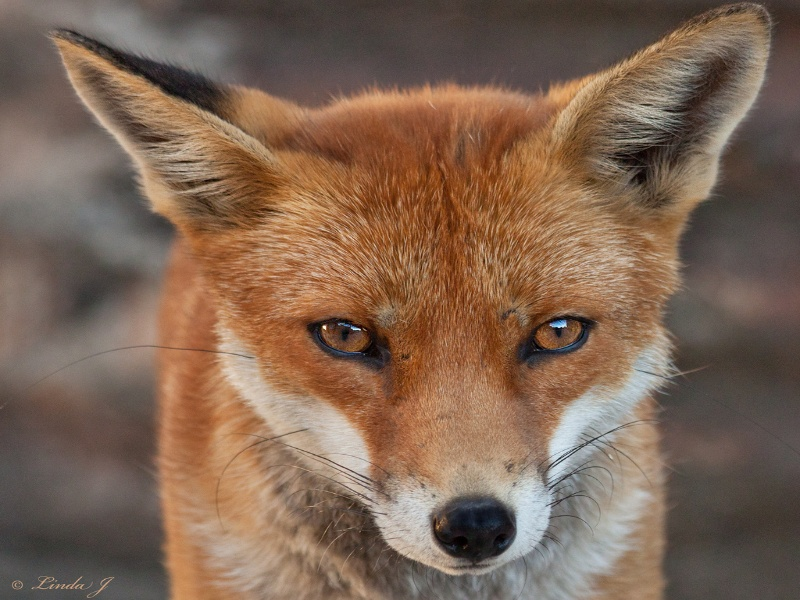fox: (43, 6, 777, 600)
